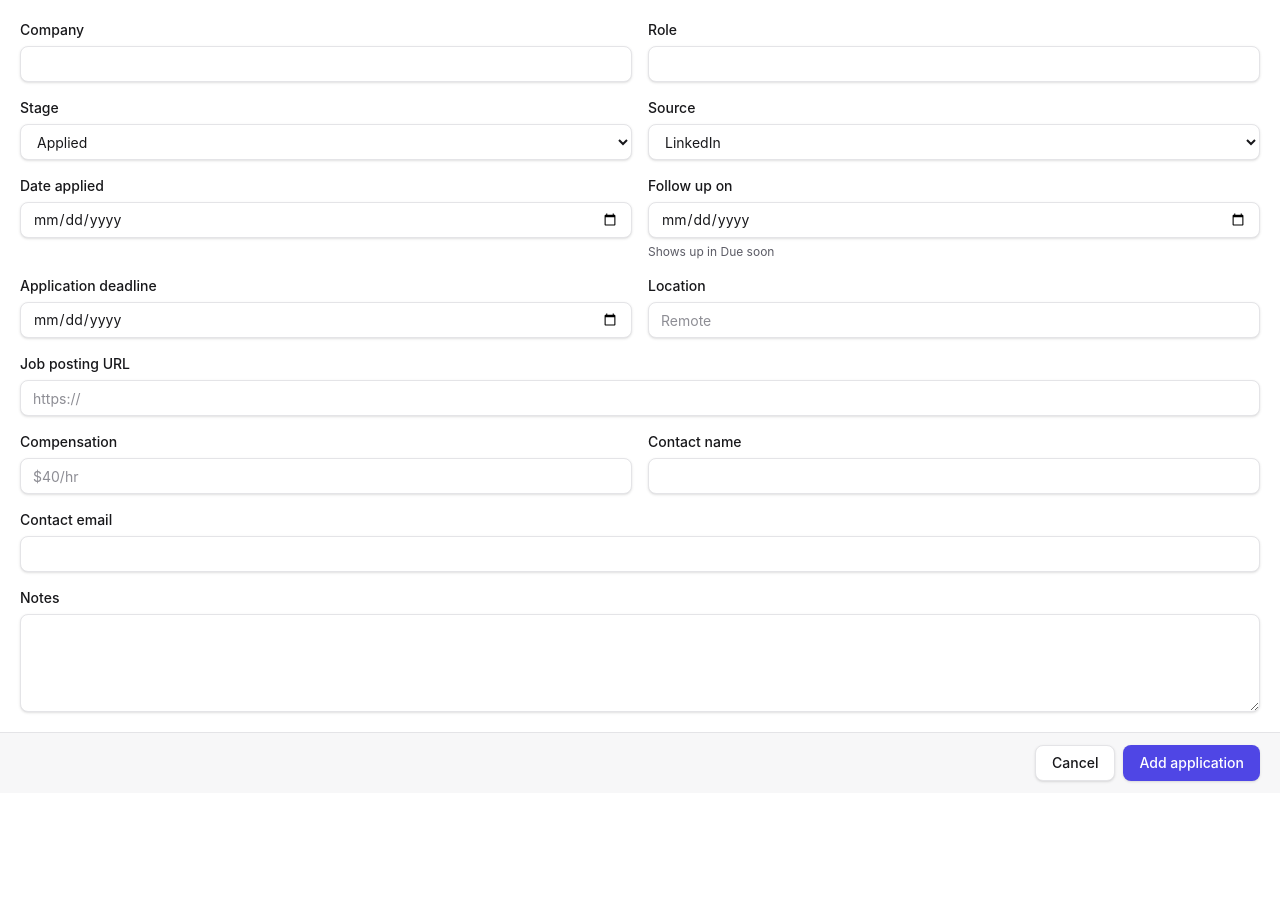
it: ApplicationForm › validates the URL format
Type "careers page" into the field labelled "Job posting URL" at (640, 398), box [20,380,1260,416]
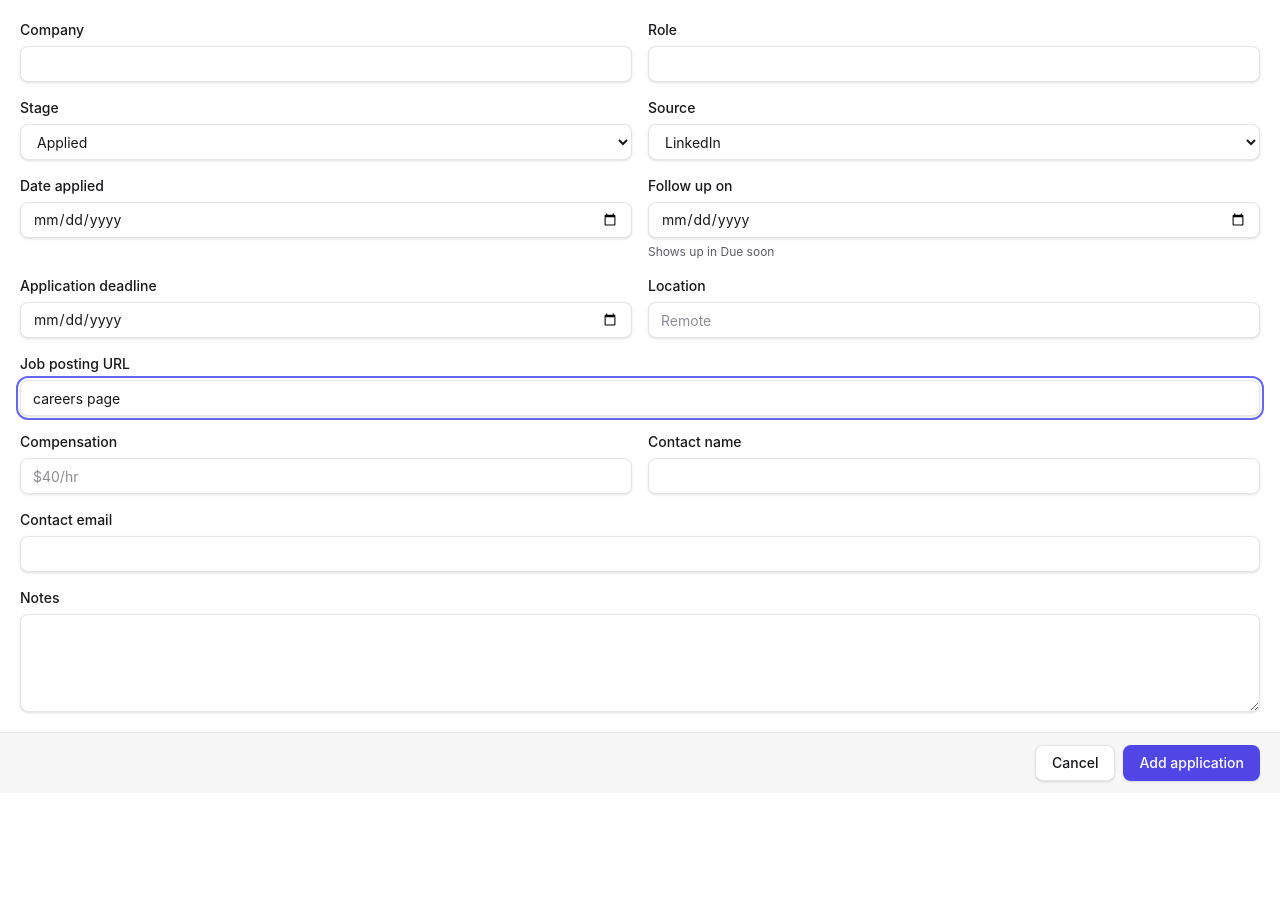
Press Tab
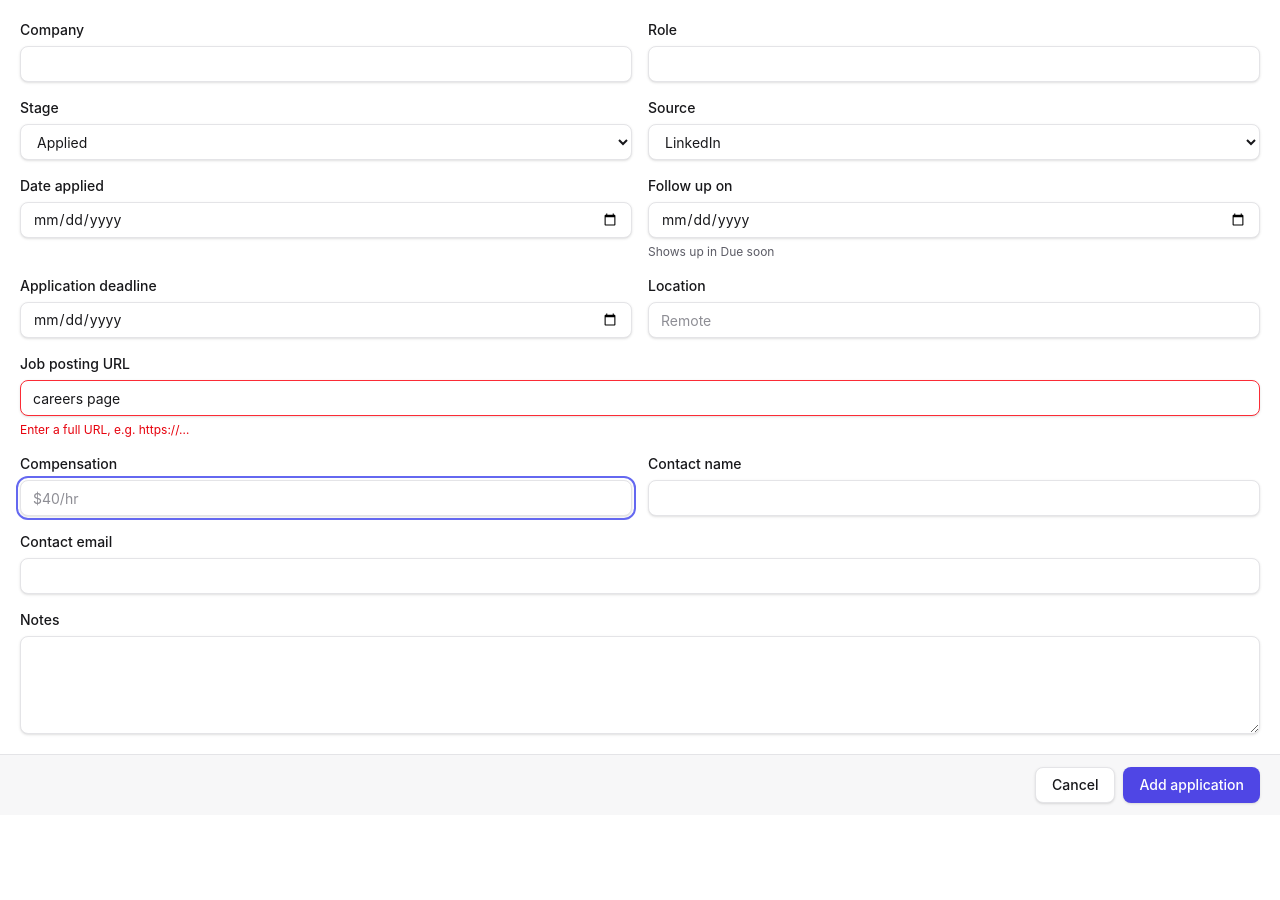
expect the text "Enter a full URL, e.g. https://…" is shown: met, box [20,422,189,437]
